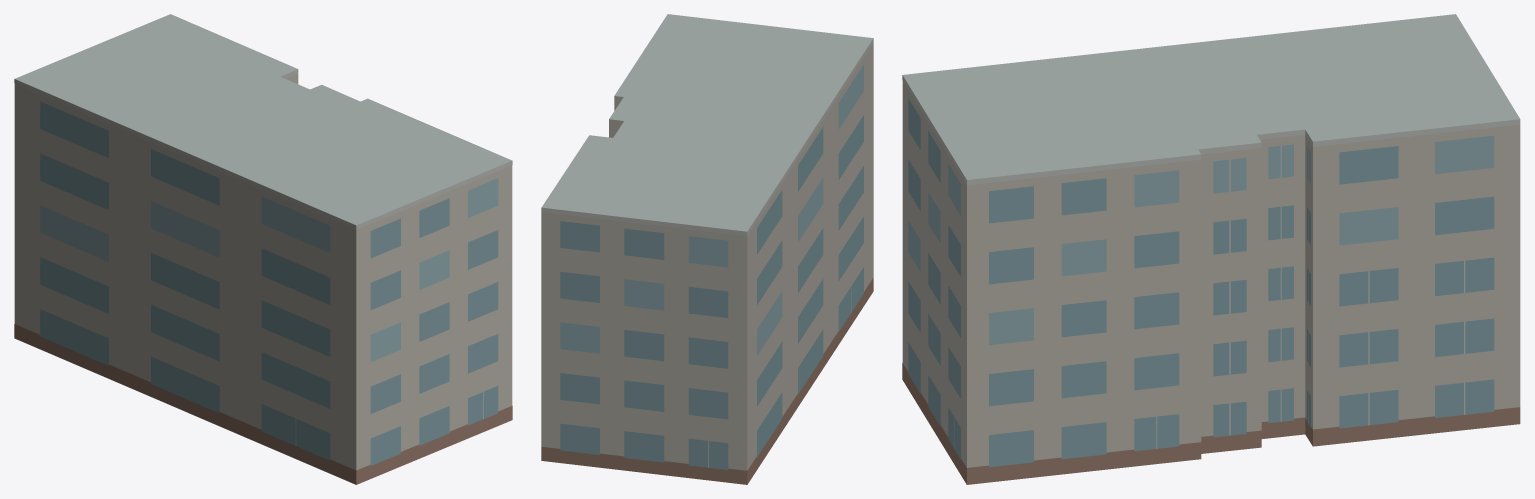
The model's file is survey-upis-32696070.glb.
The picture shows the model from 3 angles, left to right: view 1: azimuth 30°, elevation 25°; view 2: azimuth 150°, elevation 25°; view 3: azimuth 270°, elevation 25°; orthographic projection. The views are drawn at different scales.
Visible parts, largest first — view 1: survey-upis-32696070.tmp; view 2: survey-upis-32696070.tmp; view 3: survey-upis-32696070.tmp.
Part boxes in pixels (x1,y1,x2,y2): survey-upis-32696070.tmp: (14, 14, 512, 484); survey-upis-32696070.tmp: (541, 14, 873, 484); survey-upis-32696070.tmp: (902, 14, 1520, 484).
Size of the model in its own units: 16.49 by 14.1 by 25.92.
